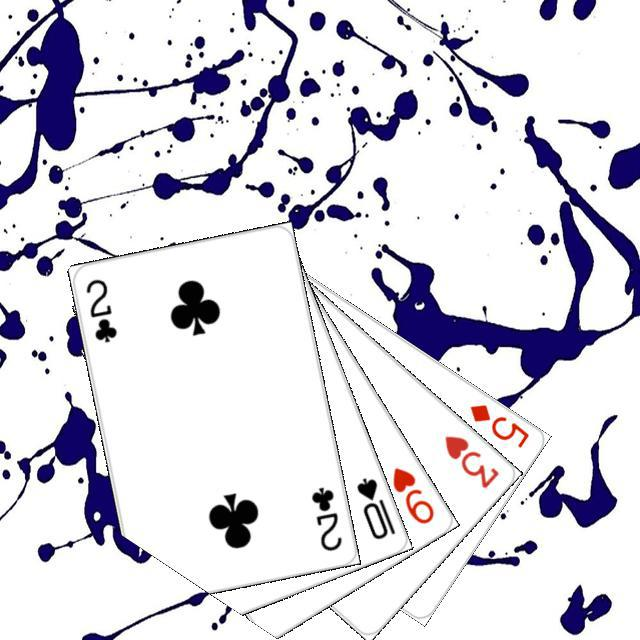10s: (351, 473, 397, 541)
2c: (306, 482, 344, 553), (81, 274, 119, 345)
3h: (439, 430, 501, 491)
5d: (465, 399, 531, 450)
9h: (387, 462, 436, 526)
